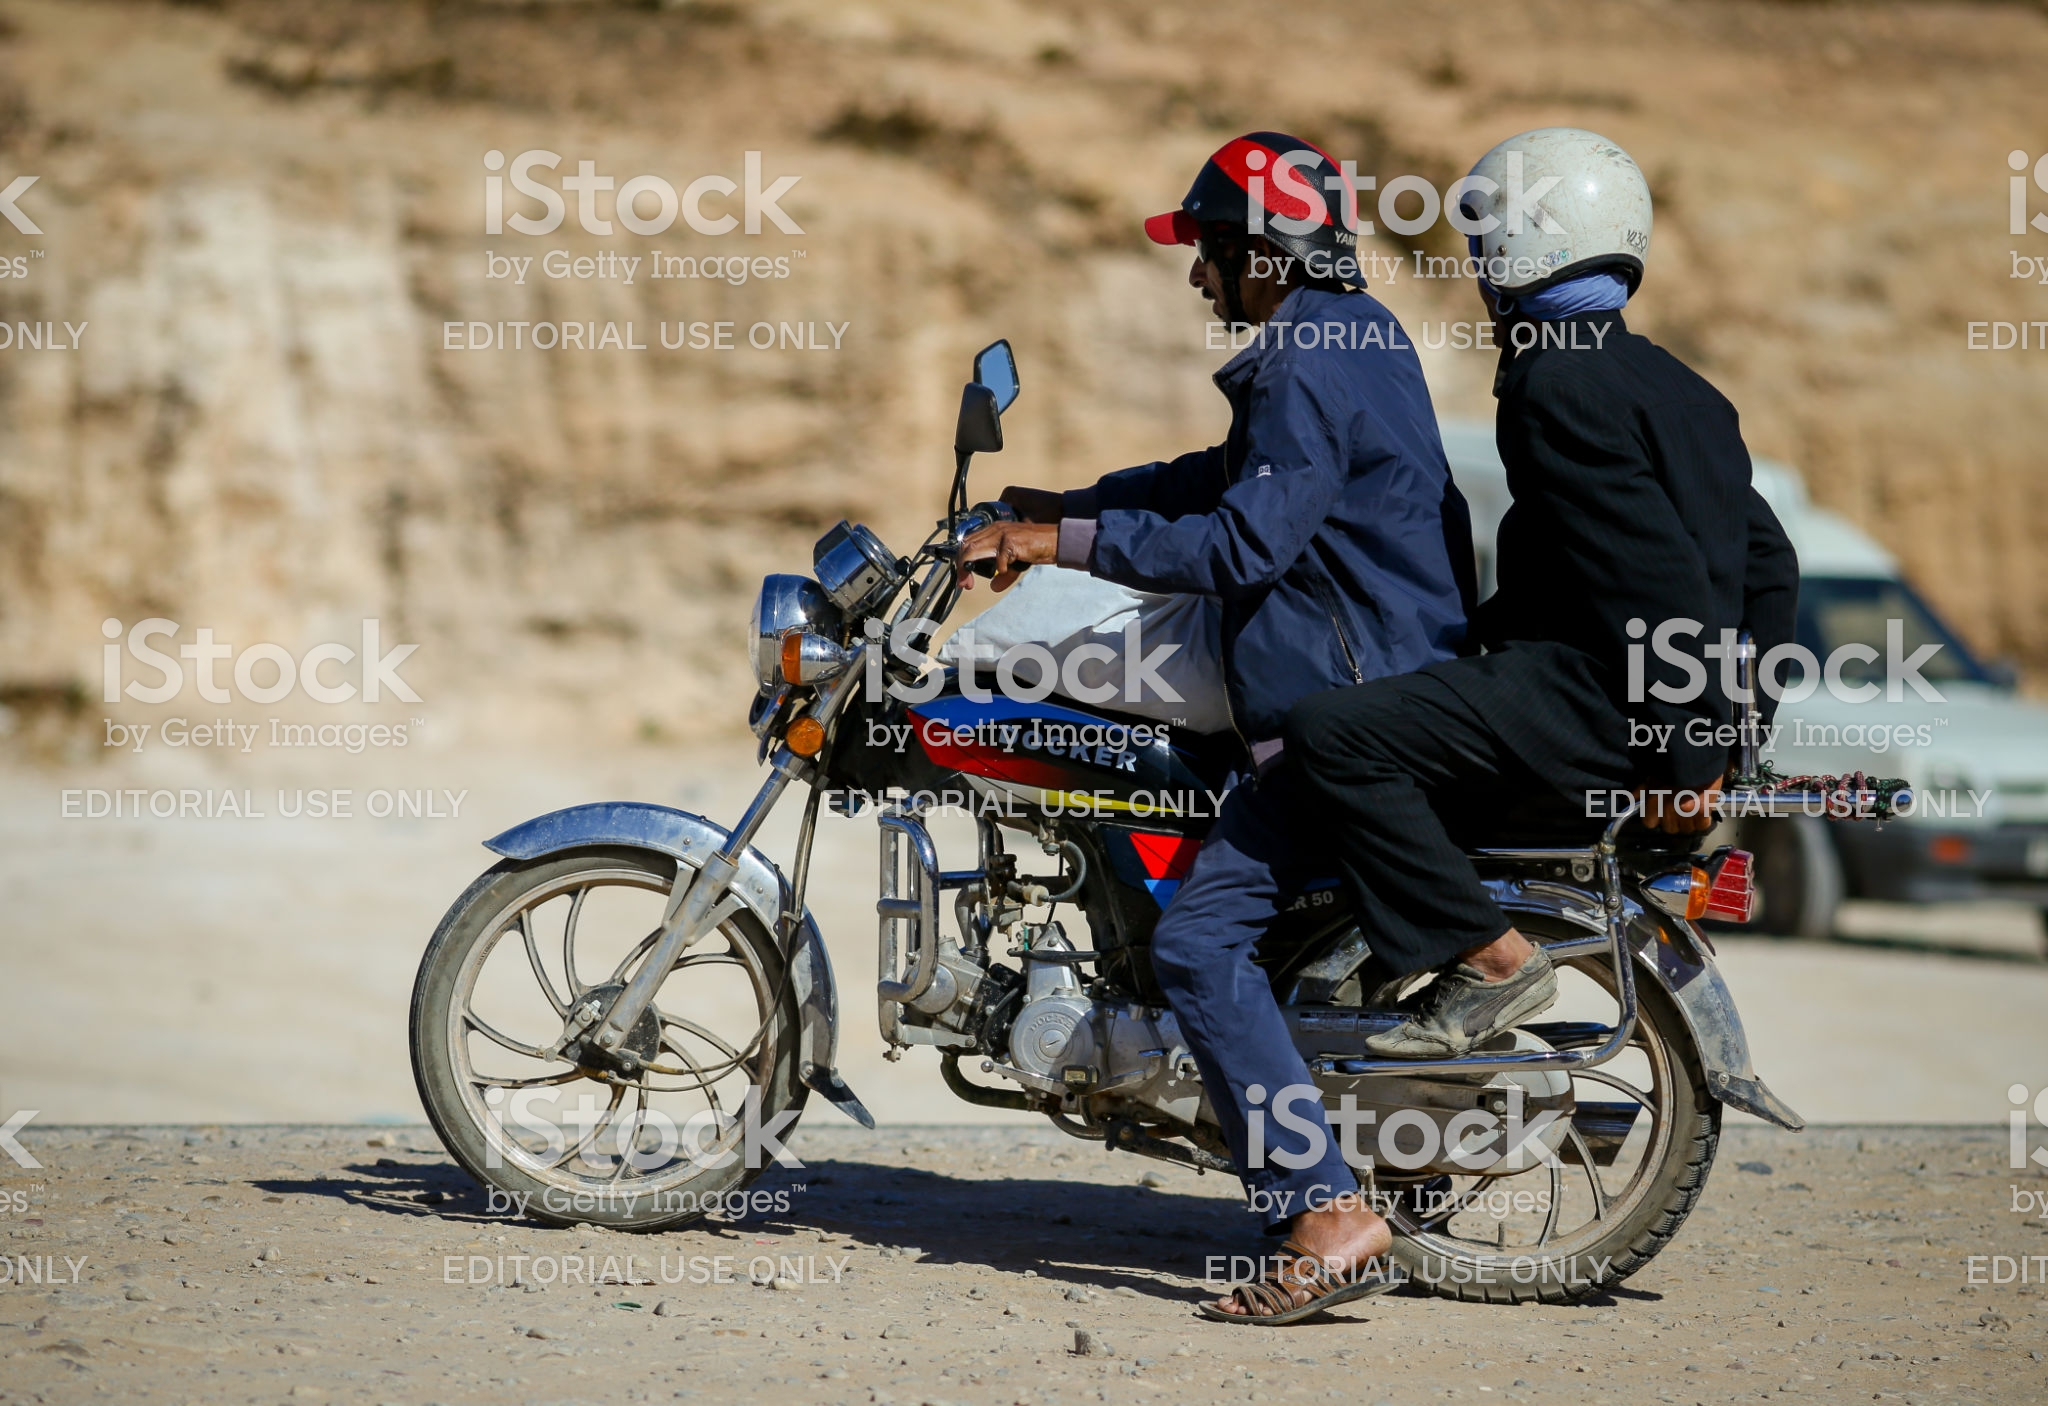helmet: (1450, 129, 1689, 265)
